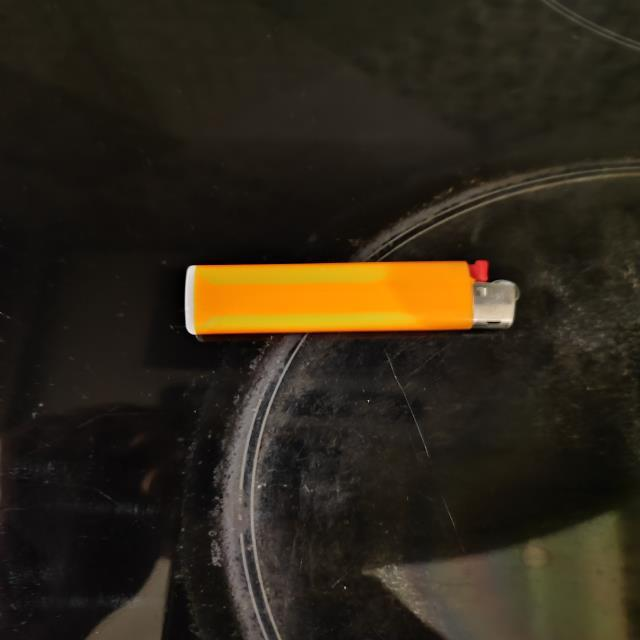lighter: (185, 261, 518, 336)
